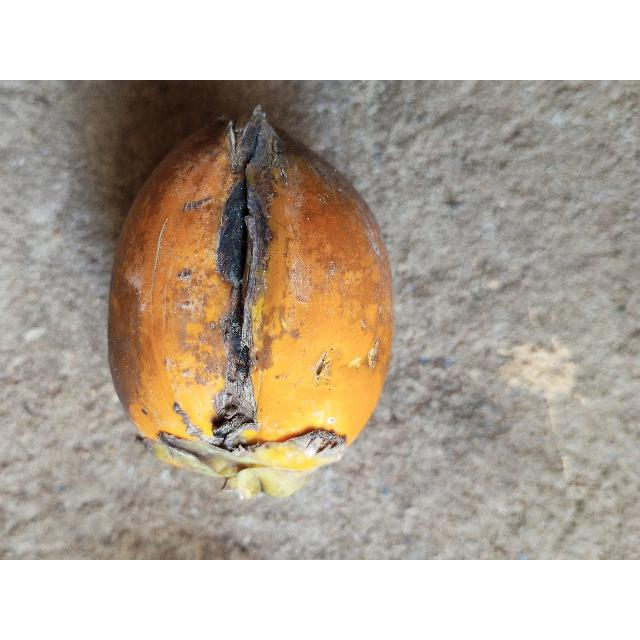damaged: (107, 108, 395, 501)
